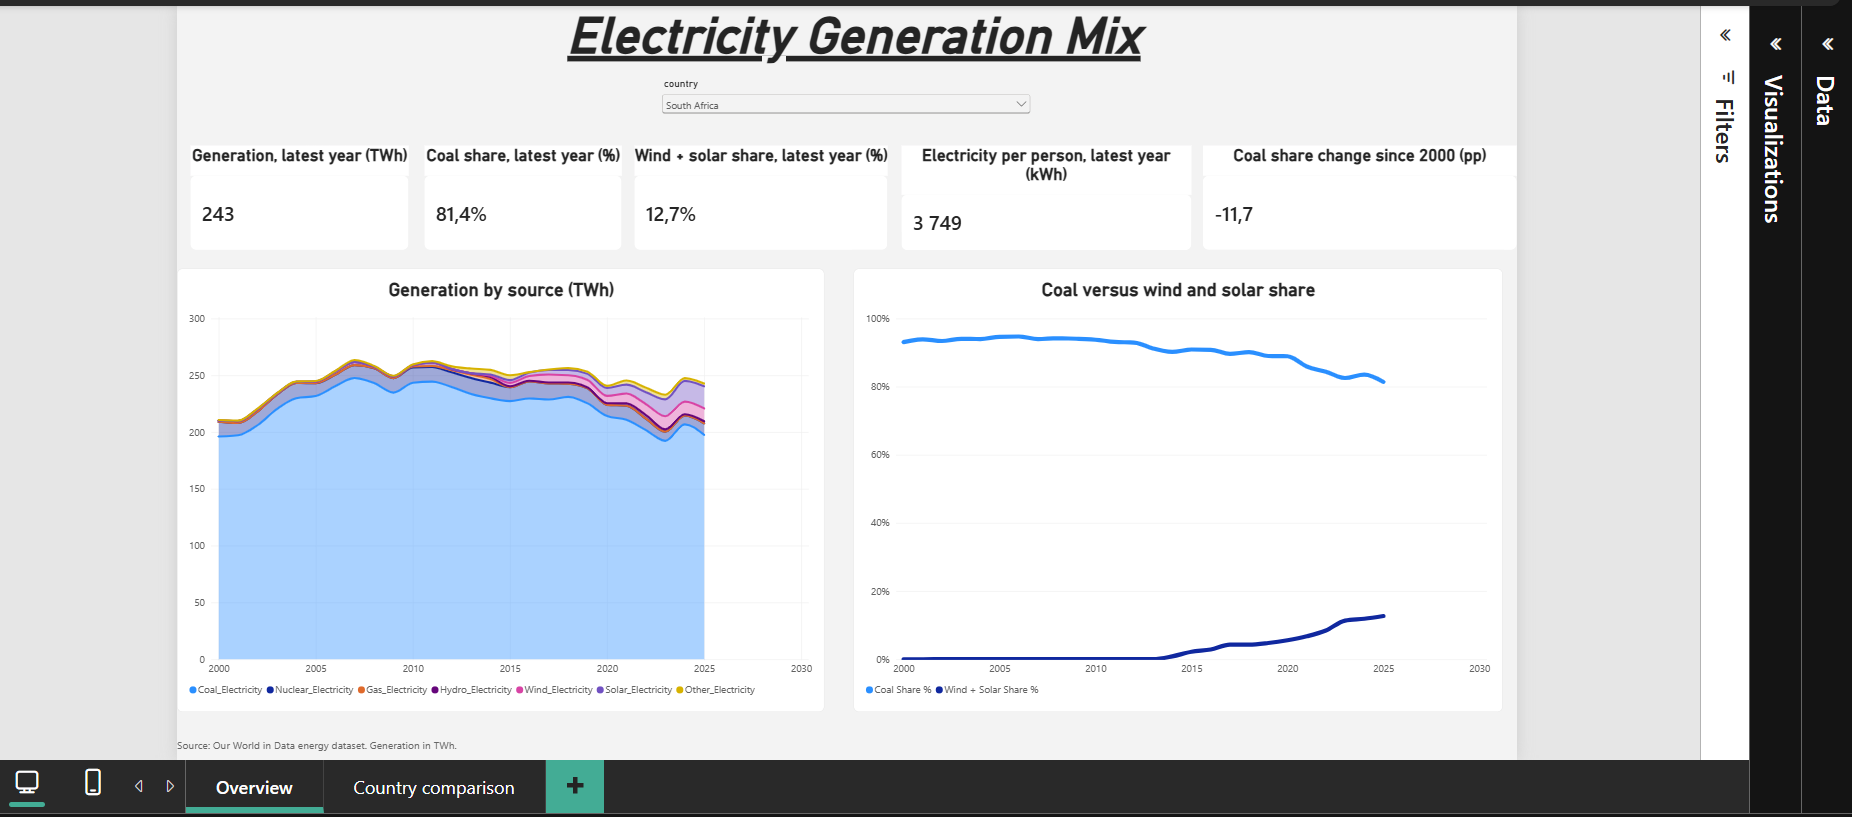

This screenshot's page, from the dashboard's own definition file:
{"tool":"powerbi","page":{"name":"Overview","canvas":[1920,1080],"ordinal":0},"visuals":[{"type":"textbox","title":"Electricity Generation Mix","box":[19.5,0,1900.6,122],"z":0},{"type":"slicer","fields":{"Values":["Energy.country"]},"box":[690,102.5,537.5,97.5],"z":1000},{"type":"cardVisual","title":"Generation, latest year (TWh)","fields":{"Data":["Energy.Generation (latest)"]},"box":[20,200,312.5,150],"z":2000},{"type":"cardVisual","title":"Coal share, latest year (%)","fields":{"Data":["Energy.Coal Share (latest)"]},"box":[355,200,282.5,150],"z":3000},{"type":"cardVisual","title":"Wind + solar share, latest year (%)","fields":{"Data":["Energy.Wind + Solar Share (latest)"]},"box":[655,200,362.5,150],"z":4000},{"type":"cardVisual","title":"Electricity per person, latest year (kWh)","fields":{"Data":["Energy.kWh per Person (text)"]},"box":[1037.5,200,415,150],"z":5000},{"type":"cardVisual","title":"Coal share change since 2000 (pp)","fields":{"Data":["Energy.Coal Share Change since 2000 (pp)"]},"box":[1470,200,449,150],"z":6000},{"type":"stackedAreaChart","title":"Generation by source (TWh)","fields":{"Category":["Energy.year"],"Y":["Sum(Energy.coal_electricity)","Sum(Energy.nuclear_electricity)","Sum(Energy.gas_electricity)","Sum(Energy.hydro_electricity)","Sum(Energy.wind_electricity)","Sum(Energy.solar_electricity)","Sum(Energy.other_electricity)"]},"box":[0,375,927.5,635],"z":7000},{"type":"lineChart","title":"Coal versus wind and solar share","fields":{"Category":["Energy.year"],"Y":["Energy.Coal Share %","Energy.Wind + Solar Share %"]},"box":[970,375,930,635],"z":8000},{"type":"textbox","box":[0,1047.5,437.5,32.5],"z":8001}]}

Visuals, with their boxes in screenshot pixels (x1, y1, x2, y2):
"Electricity Generation Mix" textbox: box(347, 0, 1762, 91)
slicer - Energy.country: box(846, 76, 1246, 149)
"Generation, latest year (TWh)" cardVisual: box(348, 149, 580, 260)
"Coal share, latest year (%)" cardVisual: box(597, 149, 807, 260)
"Wind + solar share, latest year (%)" cardVisual: box(820, 149, 1090, 260)
"Electricity per person, latest year (kWh)" cardVisual: box(1105, 149, 1414, 260)
"Coal share change since 2000 (pp)" cardVisual: box(1427, 149, 1761, 260)
"Generation by source (TWh)" stackedAreaChart: box(333, 279, 1023, 752)
"Coal versus wind and solar share" lineChart: box(1055, 279, 1747, 752)
textbox: box(333, 780, 658, 804)
